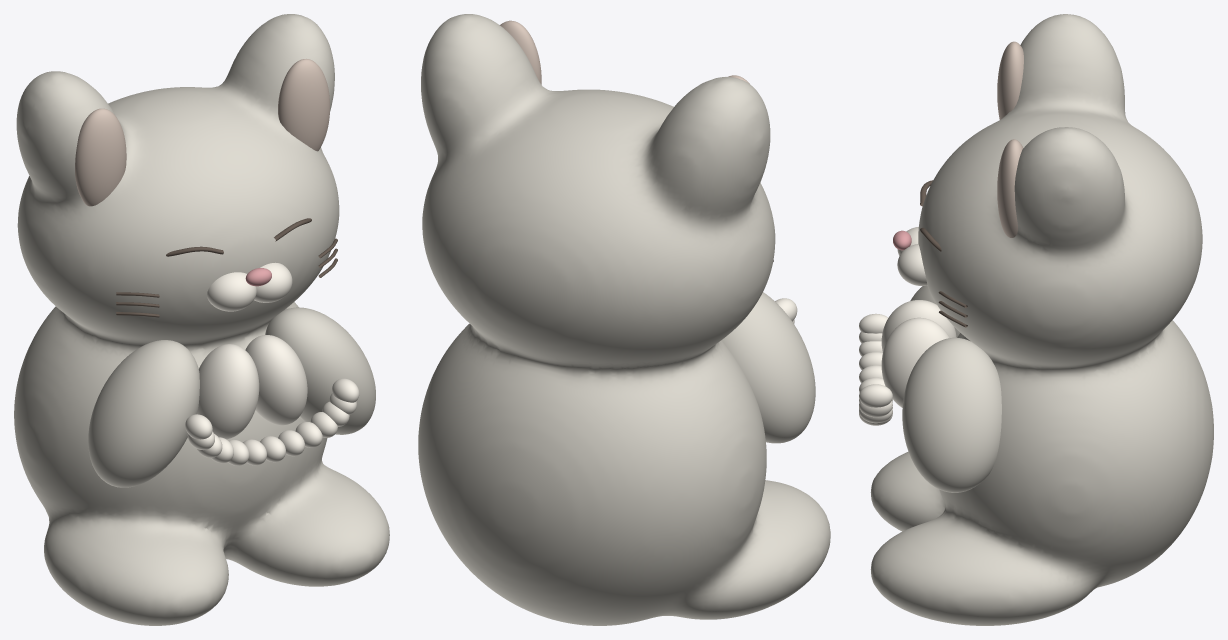
The model's file is cat-volume.glb.
3 views of the same model, side by side, from view 1: azimuth 30°, elevation 25°; view 2: azimuth 150°, elevation 25°; view 3: azimuth 270°, elevation 25° (orthographic). The views are drawn at different scales.
Visible parts, largest first — view 1: Cat sculpt.003, forearm.002, forearm.003, praying paw.002, praying paw.003, inner ear.002, inner ear.003, muzzle.006, muzzle.007, prayer bead.039, prayer bead.051; view 2: Cat sculpt.003, forearm.002, inner ear.003; view 3: Cat sculpt.003, forearm.003, praying paw.003, inner ear.003, inner ear.002, praying paw.002, muzzle.007, prayer bead.051.
Boxes of the visible parts, left/top/right/bottom form: Cat sculpt.003: left=14, top=14, right=389, bottom=625; forearm.002: left=88, top=340, right=199, bottom=487; forearm.003: left=265, top=307, right=375, bottom=434; praying paw.002: left=197, top=344, right=259, bottom=439; praying paw.003: left=245, top=335, right=307, bottom=425; inner ear.002: left=75, top=108, right=126, bottom=206; inner ear.003: left=278, top=59, right=329, bottom=151; muzzle.006: left=207, top=272, right=256, bottom=311; muzzle.007: left=254, top=262, right=292, bottom=302; prayer bead.039: left=185, top=414, right=212, bottom=439; prayer bead.051: left=332, top=378, right=359, bottom=402; Cat sculpt.003: left=418, top=14, right=830, bottom=625; forearm.002: left=721, top=292, right=815, bottom=443; inner ear.003: left=500, top=20, right=541, bottom=84; Cat sculpt.003: left=870, top=14, right=1213, bottom=625; forearm.003: left=902, top=337, right=1001, bottom=492; praying paw.003: left=881, top=317, right=949, bottom=407; inner ear.003: left=997, top=139, right=1023, bottom=237; inner ear.002: left=997, top=41, right=1023, bottom=119; praying paw.002: left=881, top=300, right=956, bottom=352; muzzle.007: left=897, top=244, right=927, bottom=285; prayer bead.051: left=859, top=384, right=892, bottom=407.
Size of the model in its own units: 1.29 by 2.06 by 1.32.
